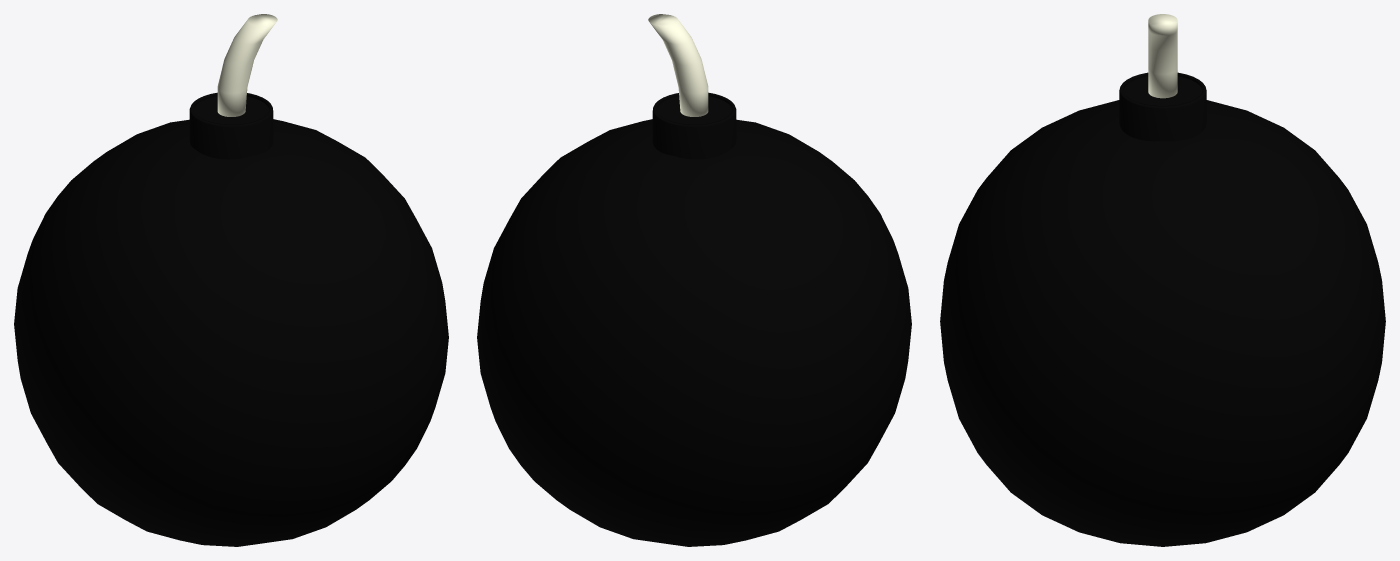
File: Bomb.fbx
The picture shows the model from 3 angles, left to right: view 1: azimuth 30°, elevation 25°; view 2: azimuth 150°, elevation 25°; view 3: azimuth 270°, elevation 25°; orthographic projection. The views are drawn at different scales.
Visible parts, largest first — view 1: Bomba, Base de la mecha, Cylinder; view 2: Bomba, Base de la mecha, Cylinder; view 3: Bomba, Base de la mecha, Cylinder.
Boxes of the visible parts, x1=… form: Bomba: x1=14, y1=119, x2=448, y2=546; Base de la mecha: x1=189, y1=92, x2=273, y2=159; Cylinder: x1=217, y1=14, x2=277, y2=116; Bomba: x1=477, y1=119, x2=911, y2=546; Base de la mecha: x1=652, y1=92, x2=736, y2=159; Cylinder: x1=648, y1=14, x2=708, y2=116; Bomba: x1=940, y1=100, x2=1385, y2=546; Base de la mecha: x1=1119, y1=72, x2=1206, y2=141; Cylinder: x1=1148, y1=14, x2=1177, y2=98.
Bounding box in the file's own units: 168 × 216 × 168.
